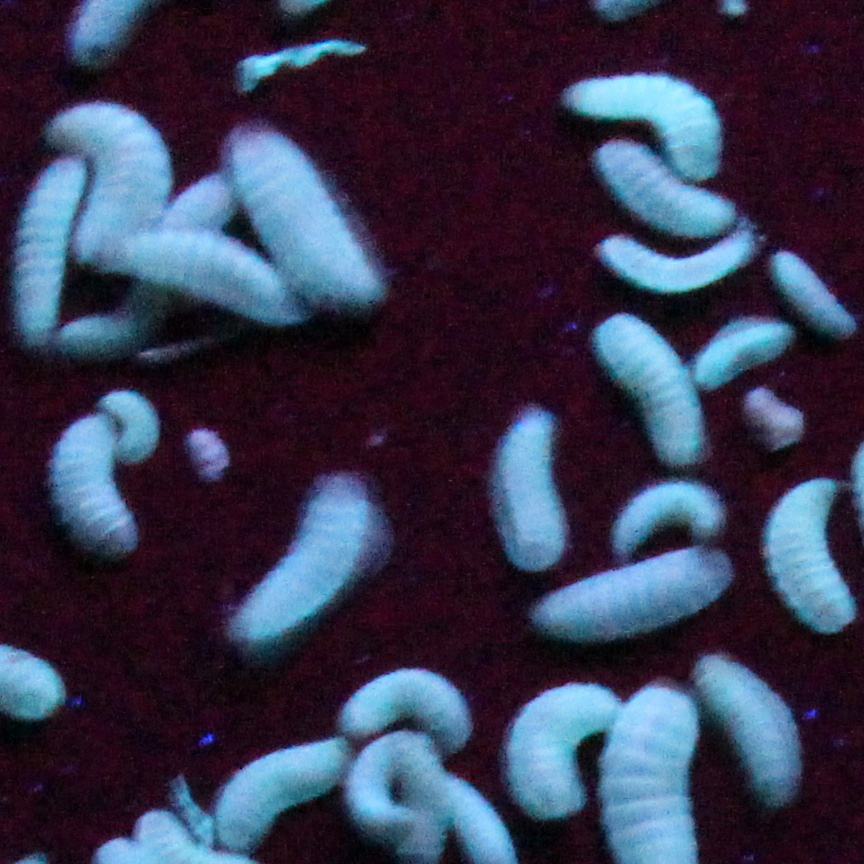larve: (228, 473, 374, 649), (247, 136, 377, 289), (546, 557, 723, 643), (9, 159, 89, 335), (60, 101, 149, 259), (707, 664, 809, 799), (126, 236, 291, 317), (605, 319, 691, 461), (223, 733, 340, 833), (510, 680, 596, 812), (581, 77, 724, 154), (505, 417, 568, 577), (60, 417, 131, 554), (779, 492, 849, 628), (605, 156, 728, 228), (349, 668, 468, 738), (616, 482, 723, 545), (770, 254, 861, 322), (168, 180, 235, 247), (609, 243, 738, 277), (705, 331, 779, 382), (358, 742, 395, 840), (110, 391, 154, 464)
